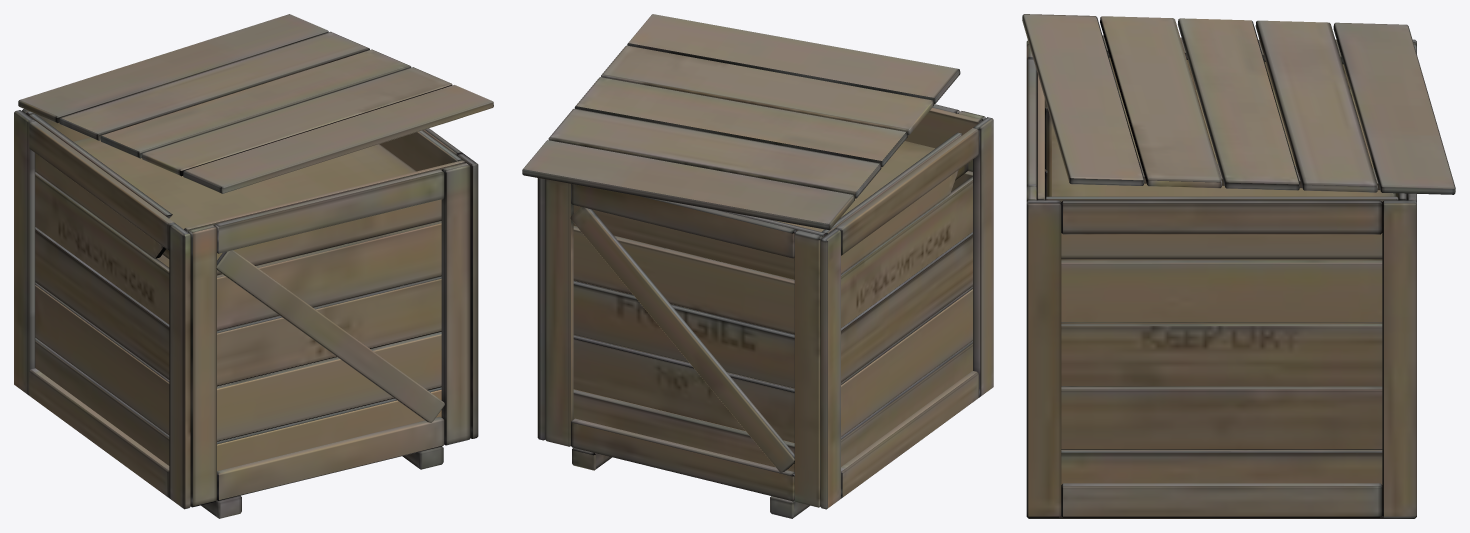
File: furniture_crate.glb
The picture shows the model from 3 angles, left to right: view 1: azimuth 30°, elevation 25°; view 2: azimuth 150°, elevation 25°; view 3: azimuth 270°, elevation 25°; orthographic projection. The views are drawn at different scales.
Visible parts, largest first — view 1: furniture_crate; view 2: furniture_crate; view 3: furniture_crate.
Boxes of the visible parts, x1,y1,x2,y2 form: furniture_crate: [14, 14, 493, 518]; furniture_crate: [522, 14, 993, 518]; furniture_crate: [1022, 14, 1455, 518].
Size of the model in its own units: 0.9415 by 0.9093 by 0.9377.
Materials: 1 (1 with a texture image).
